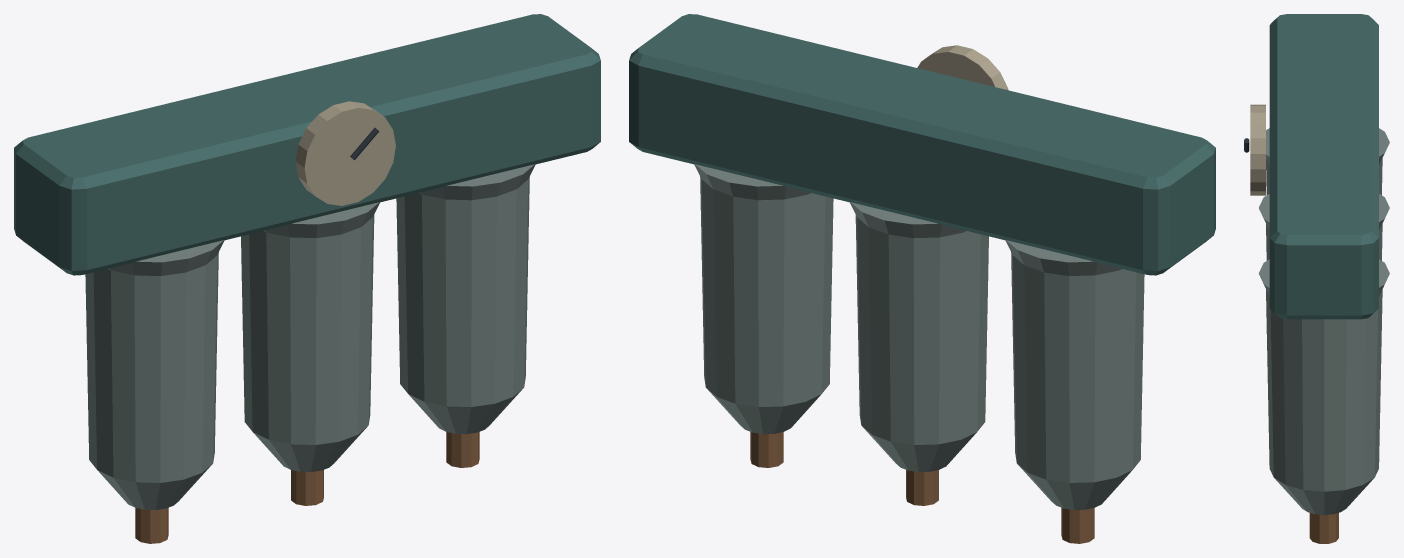
The model's file is F-20_air_separator.glb.
3 renders of one model, left to right at view 1: azimuth 30°, elevation 25°; view 2: azimuth 150°, elevation 25°; view 3: azimuth 270°, elevation 25°, orthographic. The views are drawn at different scales.
Visible parts, largest first — view 1: F-20_air_separator; view 2: F-20_air_separator; view 3: F-20_air_separator.
Boxes of the visible parts, x1,y1,x2,y2 form: F-20_air_separator: (14, 14, 600, 543); F-20_air_separator: (629, 14, 1215, 543); F-20_air_separator: (1244, 14, 1389, 543).
Size of the model in its own units: 0.59 by 0.4392 by 0.16.
